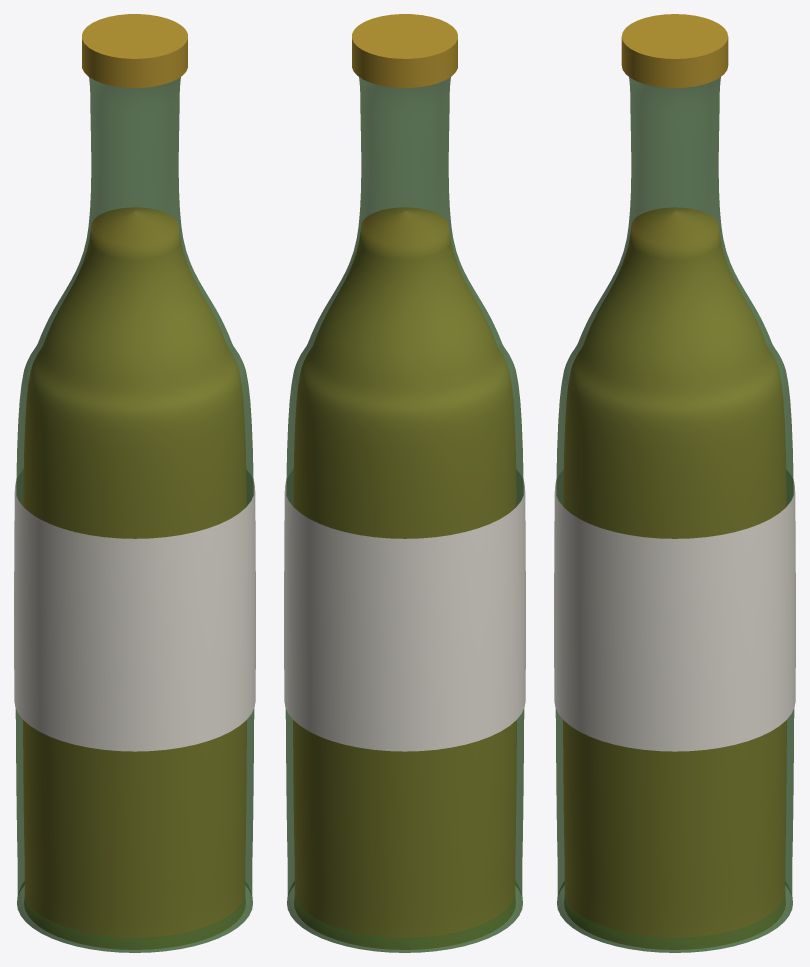
Rendered from stella.glb.
3 views of the same model, side by side, from view 1: azimuth 30°, elevation 25°; view 2: azimuth 150°, elevation 25°; view 3: azimuth 270°, elevation 25° (orthographic).
Parts seen in each view (by area): view 1: vidrio, liquido, etiqueta, tapa; view 2: vidrio, liquido, etiqueta, tapa; view 3: vidrio, liquido, etiqueta, tapa.
Part boxes in pixels (x1,y1,x2,y2): vidrio: (15,77,254,952); liquido: (23,207,246,949); etiqueta: (14,471,255,751); tapa: (82,14,187,87); vidrio: (285,77,524,952); liquido: (293,207,516,949); etiqueta: (284,471,525,751); tapa: (352,14,457,87); vidrio: (555,77,794,952); liquido: (563,207,786,949); etiqueta: (554,471,795,751); tapa: (621,14,728,88).
Size of the model in its own units: 0.0618 by 0.2443 by 0.0618.
